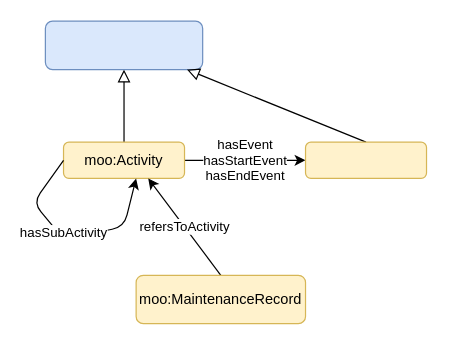
The diagram is 449 pixels wide and 345 high, and some of its shapes have lost their labels. The centre of each missing label's shape, as x and y in pixels:
moo:Event: pixel 365 159
time:TemporalEntity: pixel 123 45
